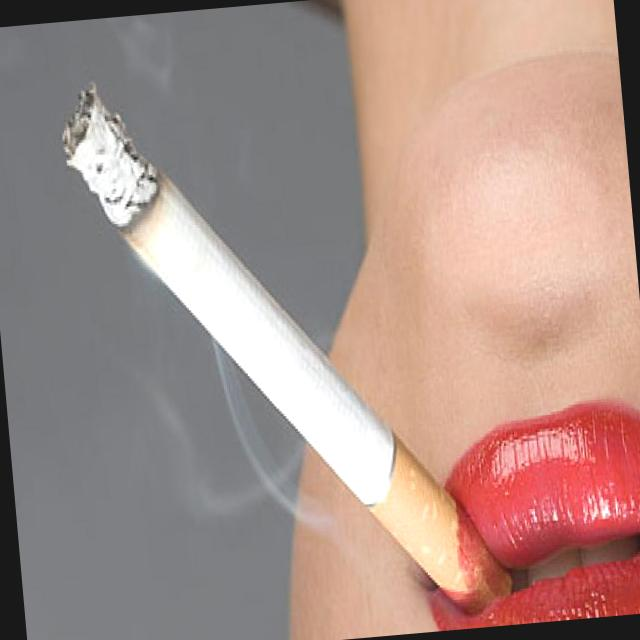cigarette: (55, 51, 554, 640)
